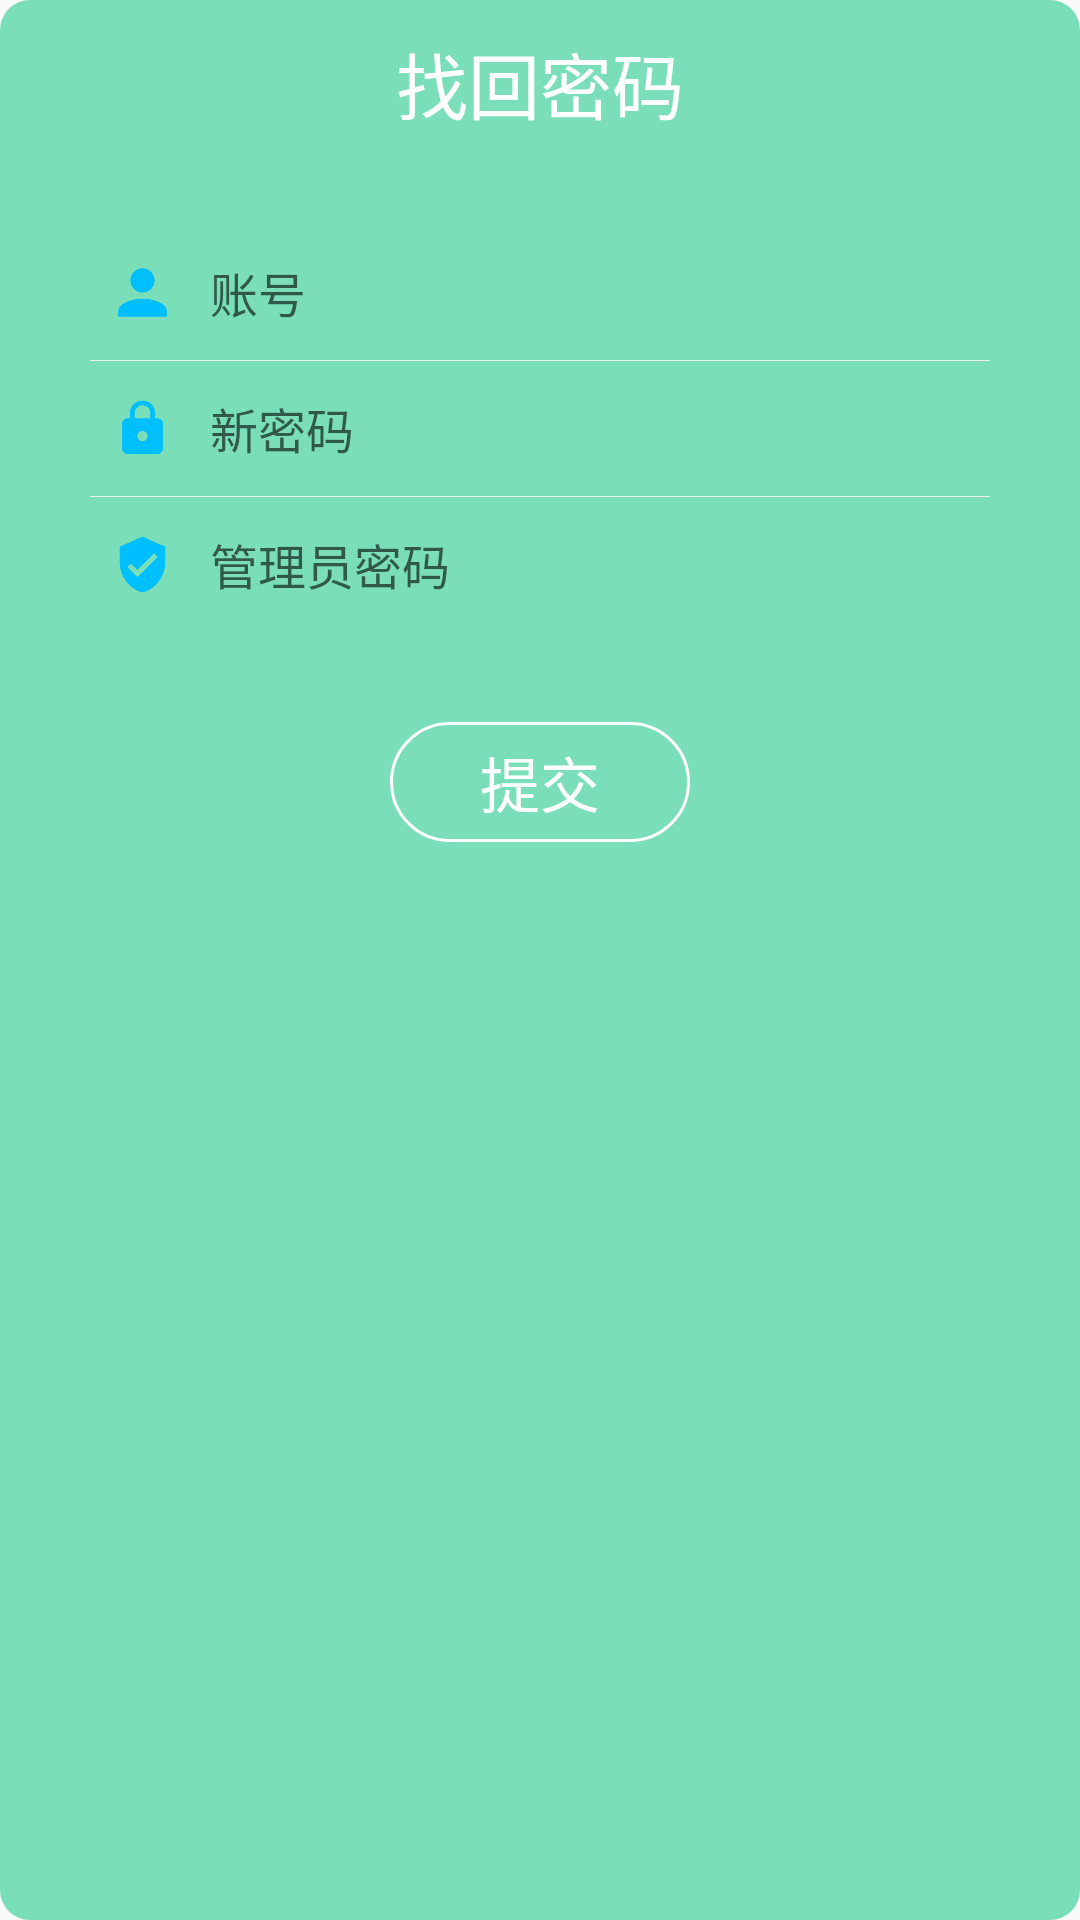

Where icons sit on this 1080 x 1920 app screen, as (x1, y1, x2, y2):
password: (122, 400, 163, 454)
username: (118, 268, 167, 317)
